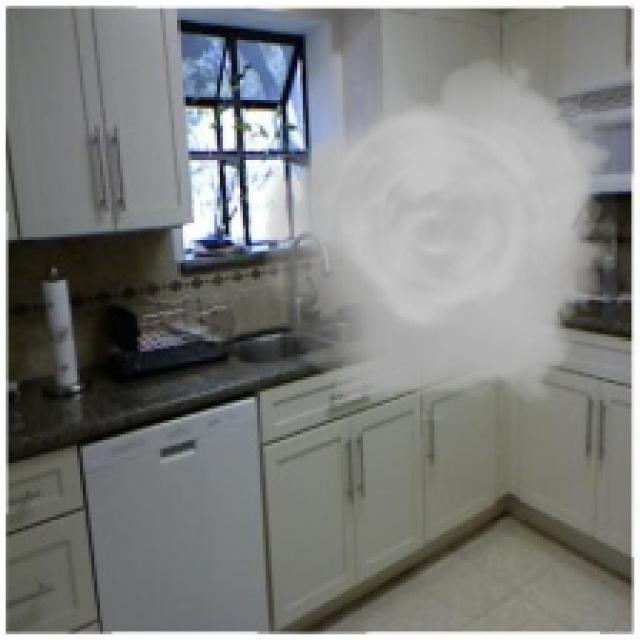smoke: (263, 46, 617, 420)
